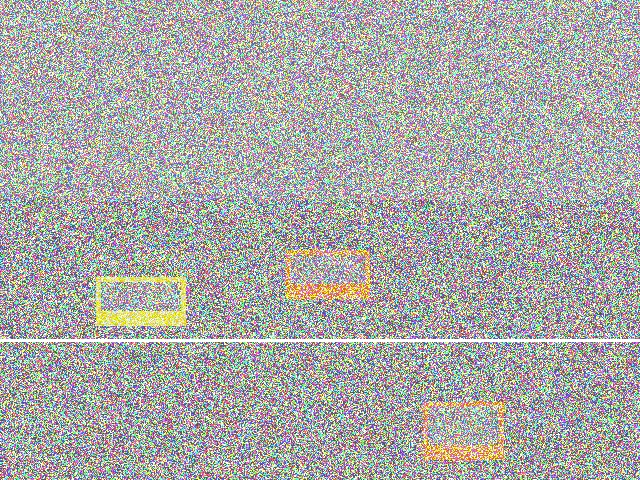bus: (273, 352, 461, 460), (217, 248, 358, 327)
